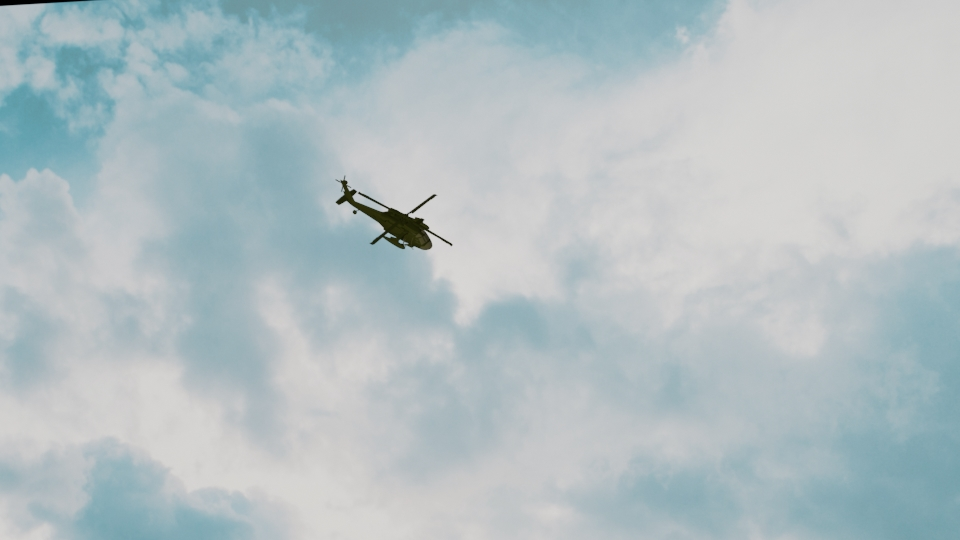heli: (336, 173, 452, 251)
